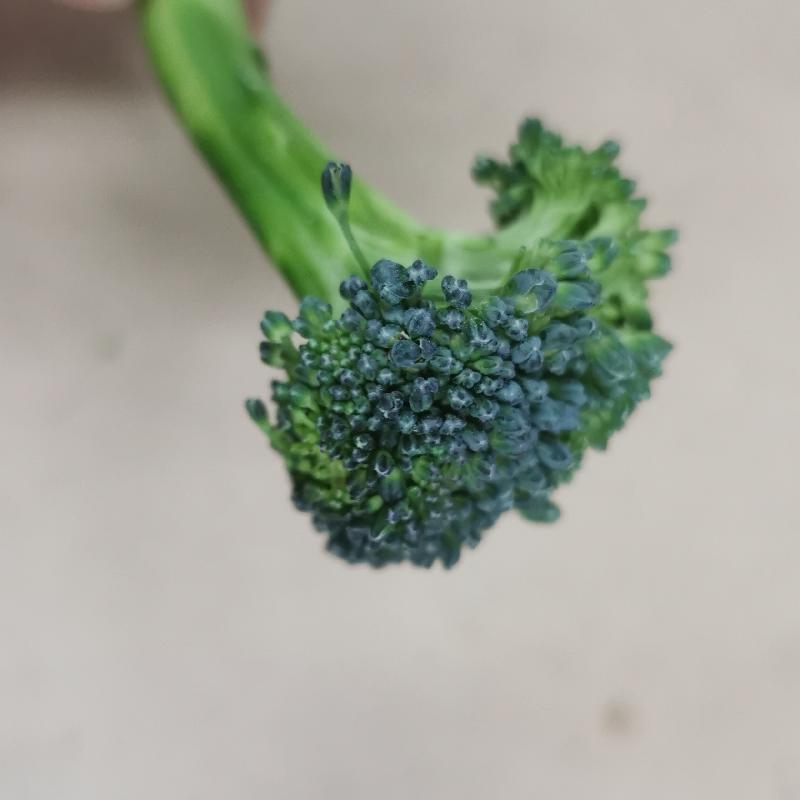broccoli: (127, 1, 673, 585)
